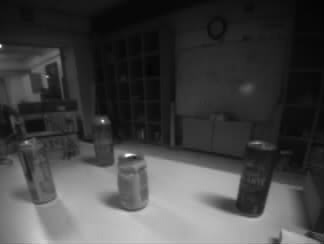Tin can: (238, 141, 275, 216), (22, 140, 56, 202), (117, 153, 150, 209), (94, 115, 113, 166)
